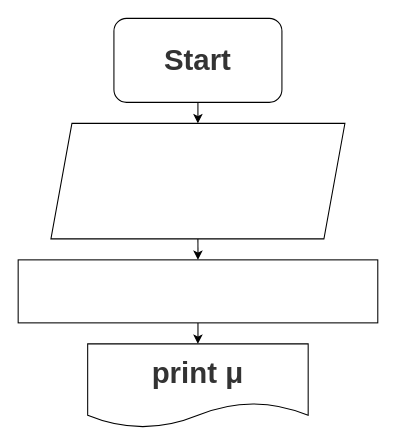
The diagram is 397 pixels wide and 446 high, and some of its shapes have lost their labels. The centre of each missing label's shape, as x and y in pixels:
a=8, b=3, c=11, d=1, quantity=4, μ=0: point 197,180
μ=(a+b+c+d)/ quantity: point 197,291
